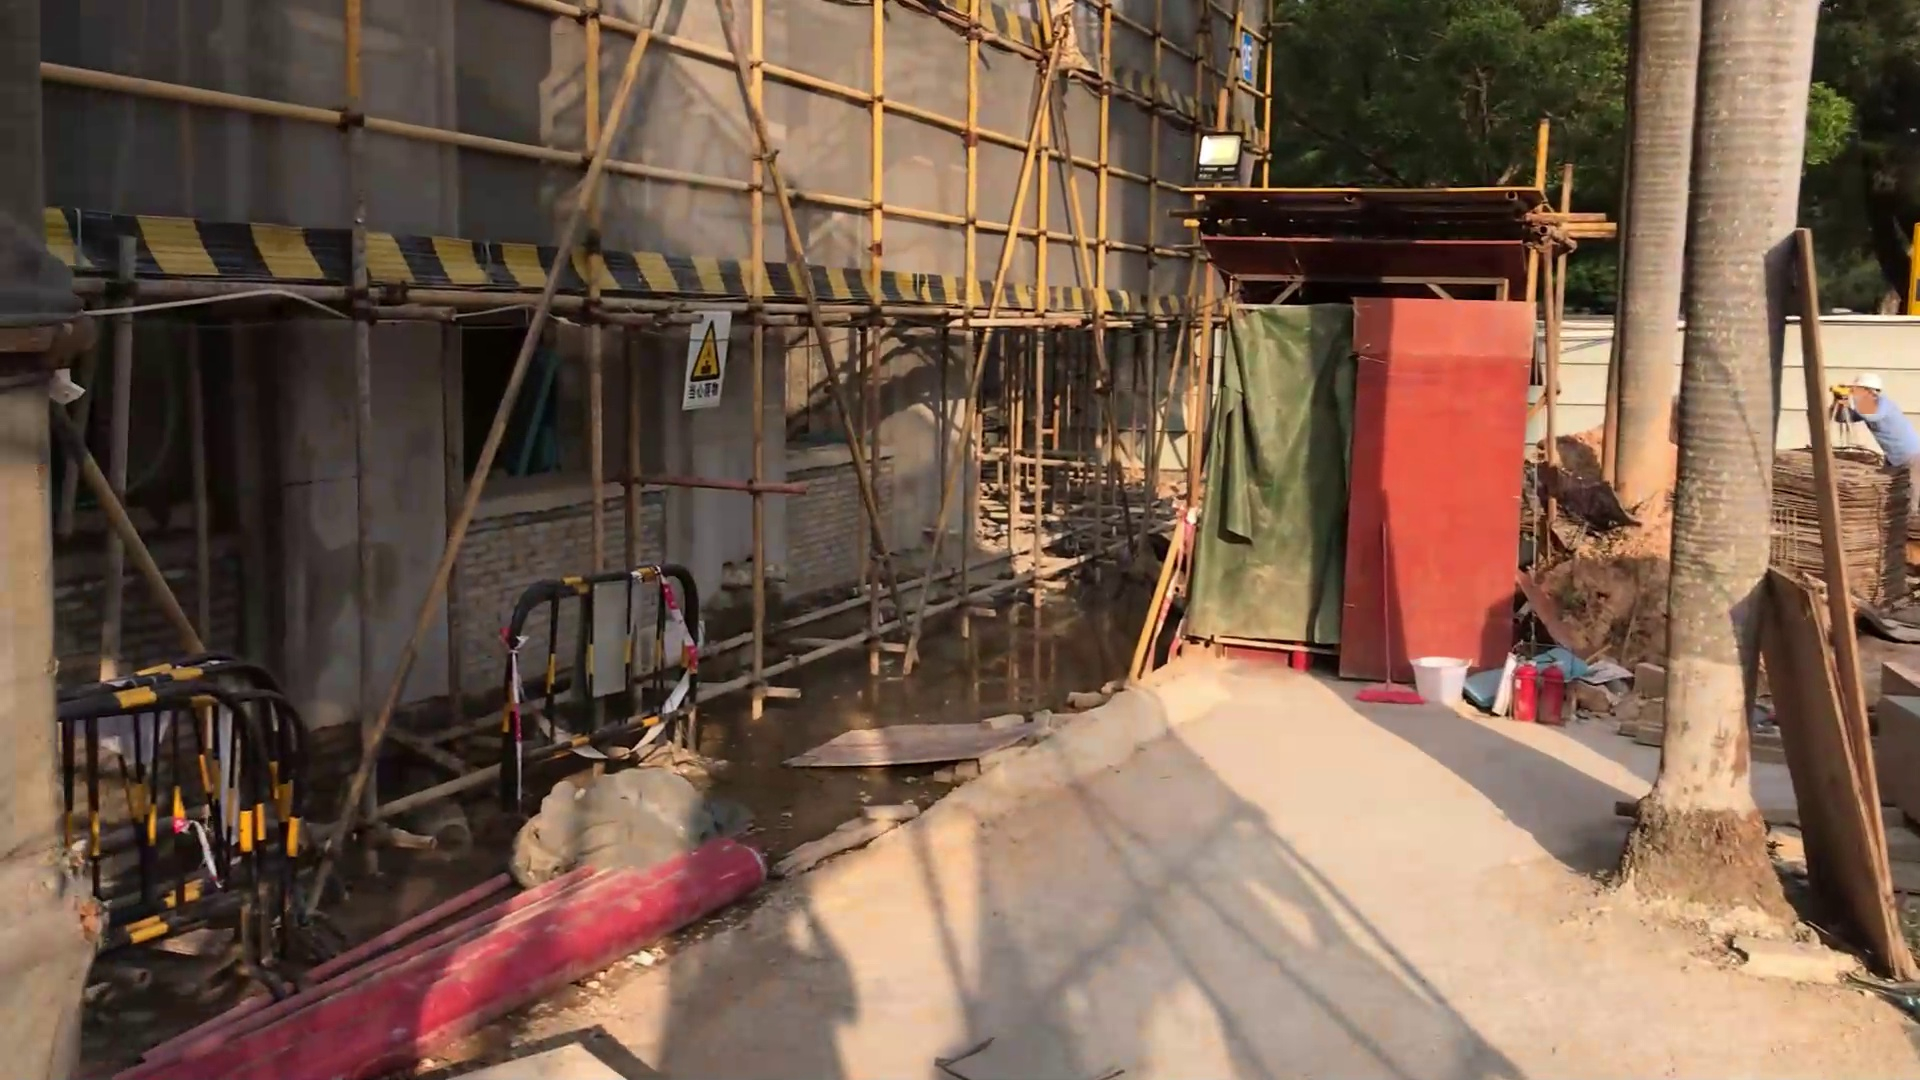fence: (53, 643, 316, 1022), (495, 563, 706, 793)
helmet: (1847, 366, 1883, 396)
person: (1828, 365, 1920, 510)
slogan: (684, 311, 726, 413)
